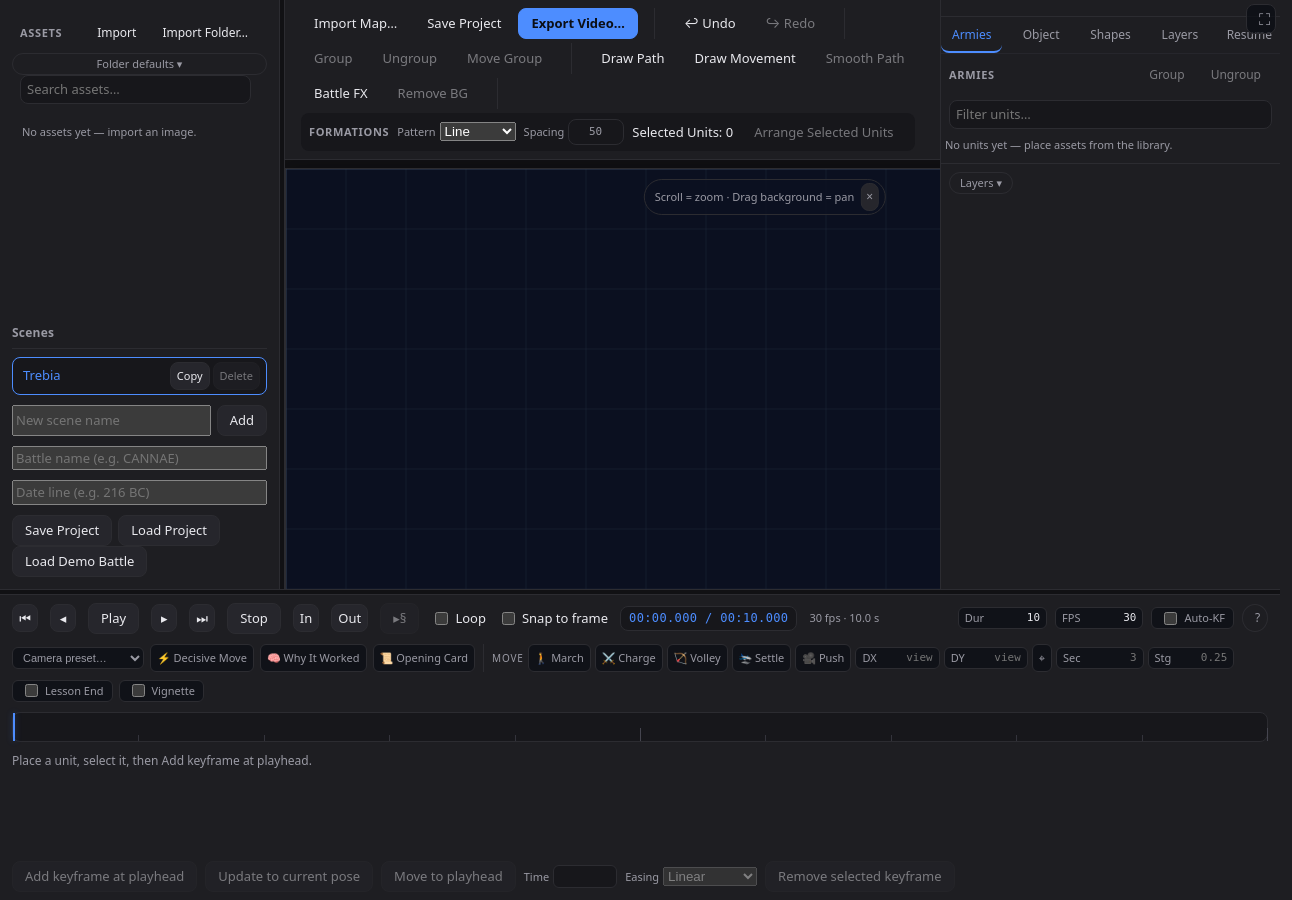
App persistence (reload data-loss regression) › "Start fresh" wipes the autosave and resets to a clean default scene
Click the tab with test id "tab-resume" at [1249, 35], box [1219,17,1280,53]
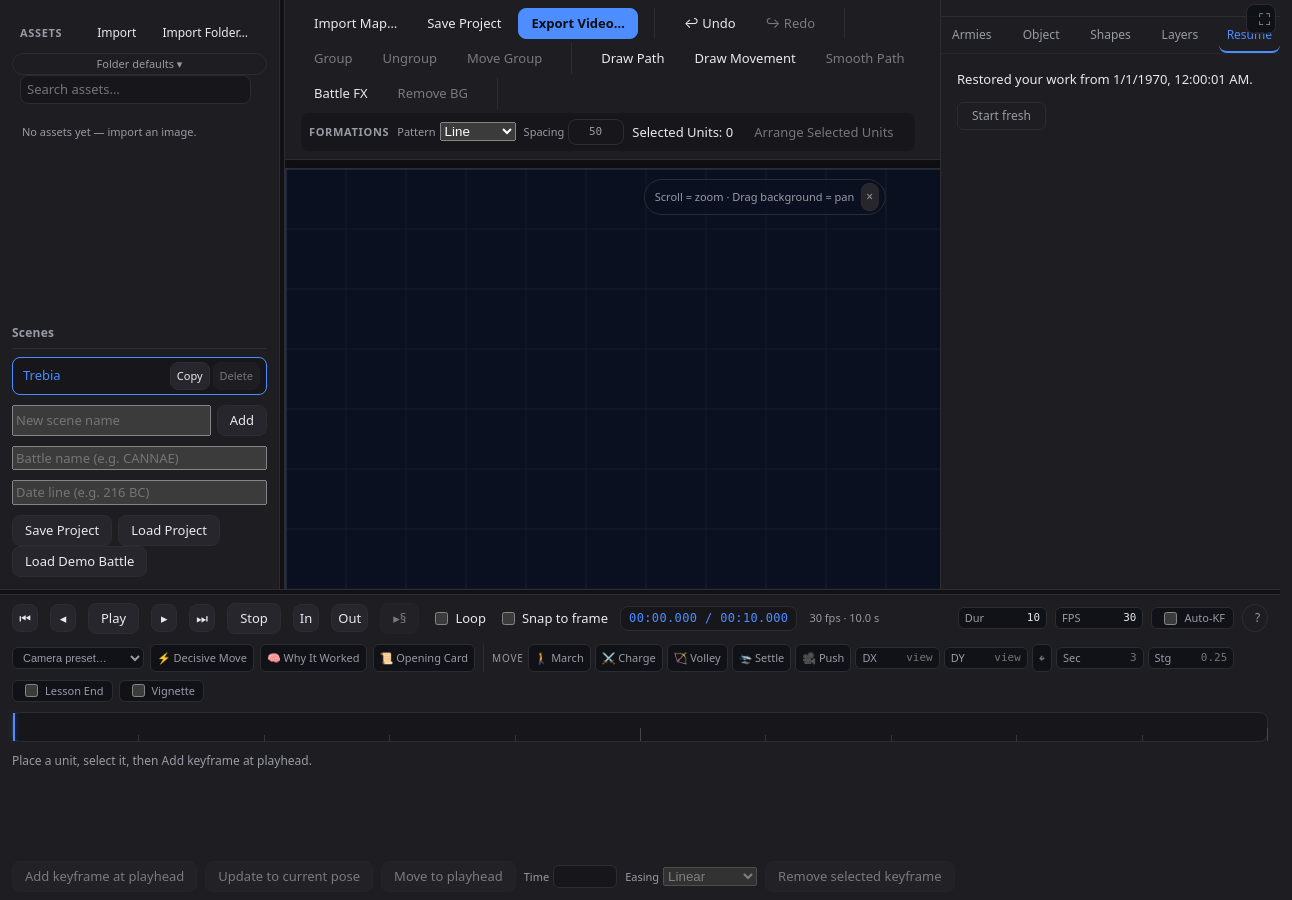
Click the button with test id "session-toast-fresh" at [1001, 116], box [957,102,1046,130]
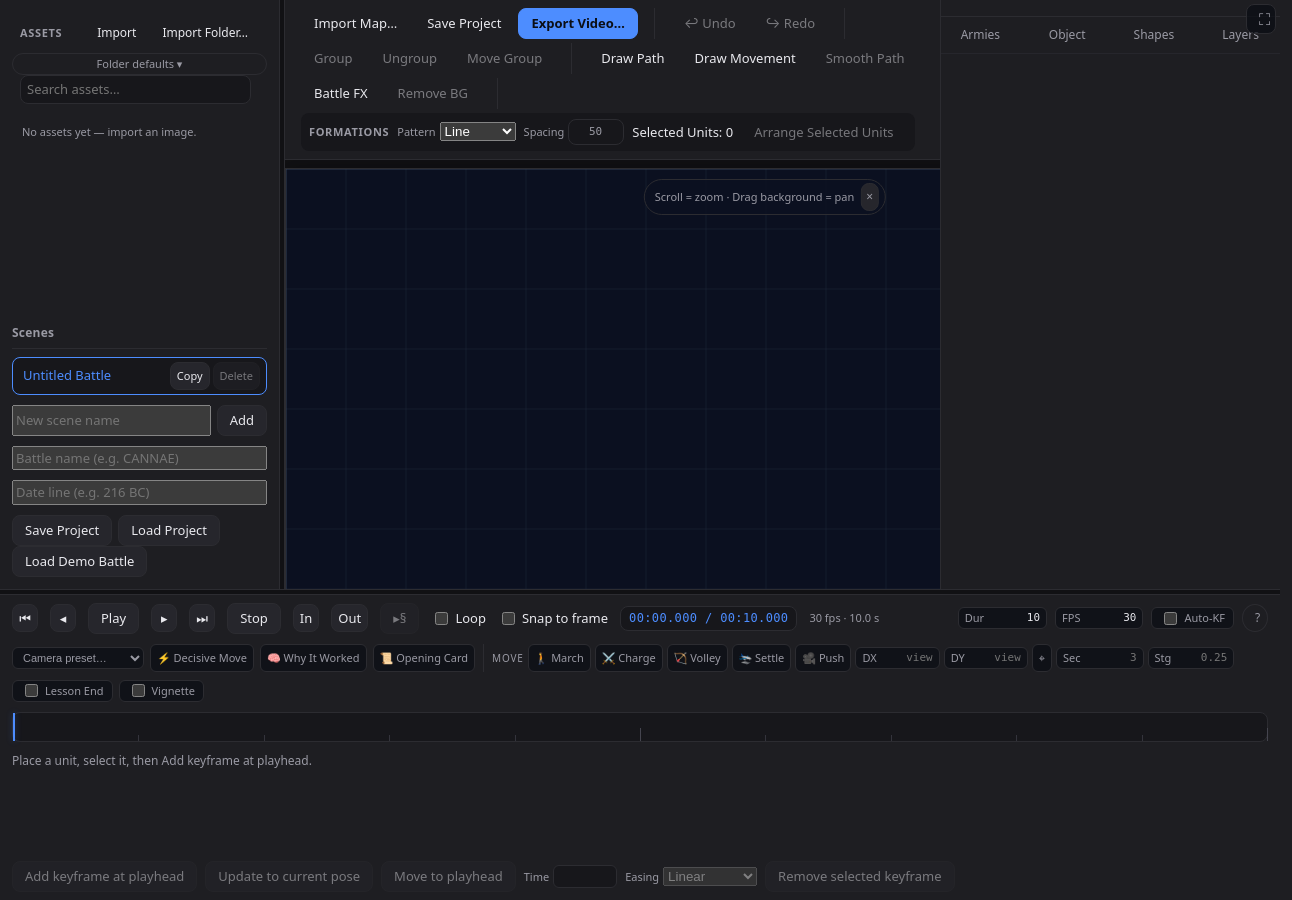
Result: the tab with test id "tab-resume" is gone
Result: the text "Untitled Battle" is shown at [23,366,111,384]
